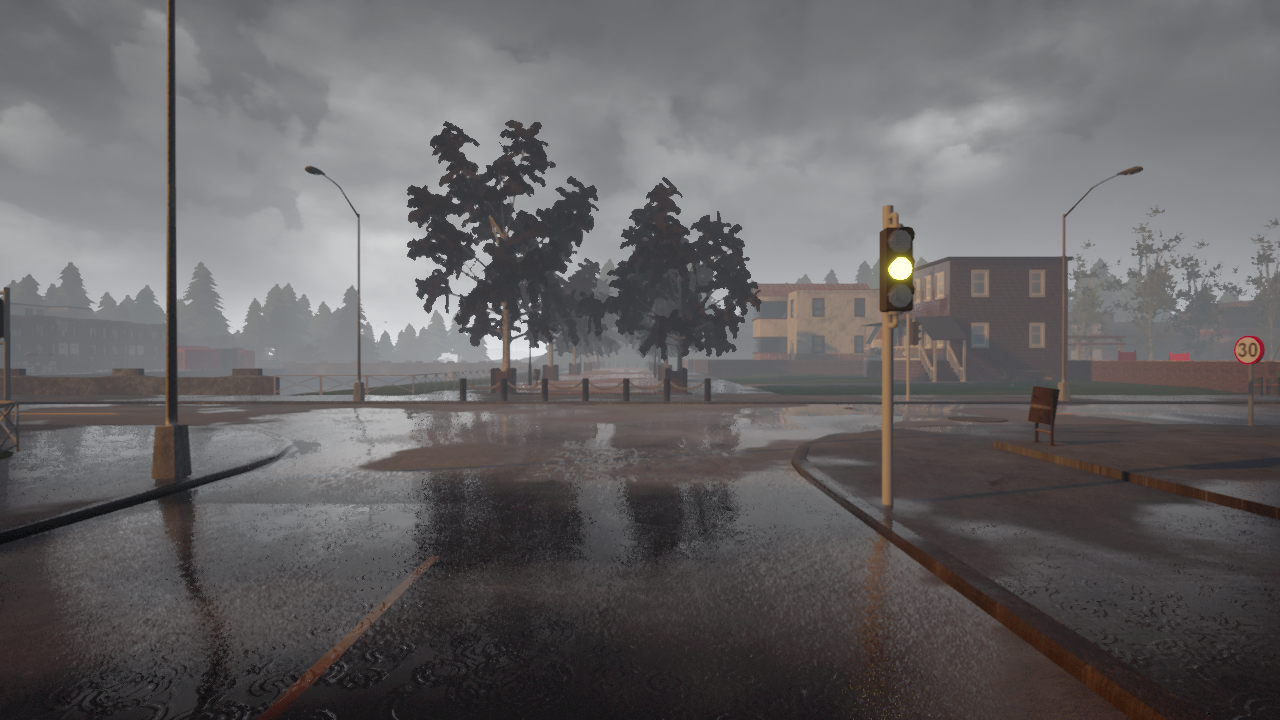yellow: (876, 224, 918, 310)
